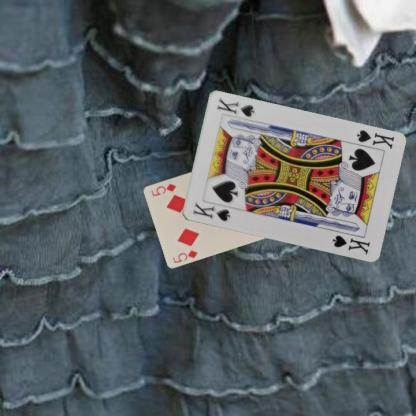5d: (170, 247, 199, 264)
Ks: (190, 199, 232, 223), (354, 128, 395, 150)
